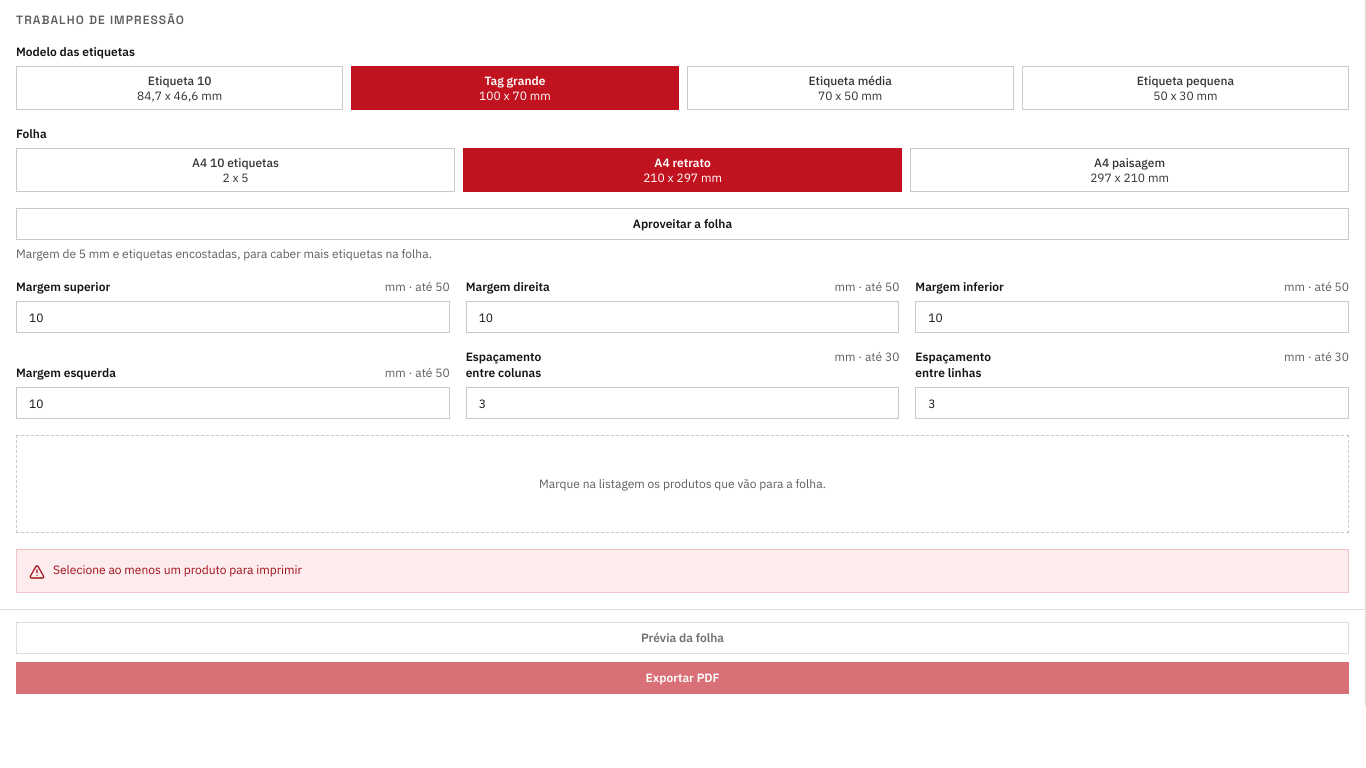
Test case: aproveitar a folha › mantem o caminho de volta mesmo num par de modelos em que o ajuste nao rende
Click the button "Aproveitar a folha". click: (682, 224)
box: [16,208,1349,240]
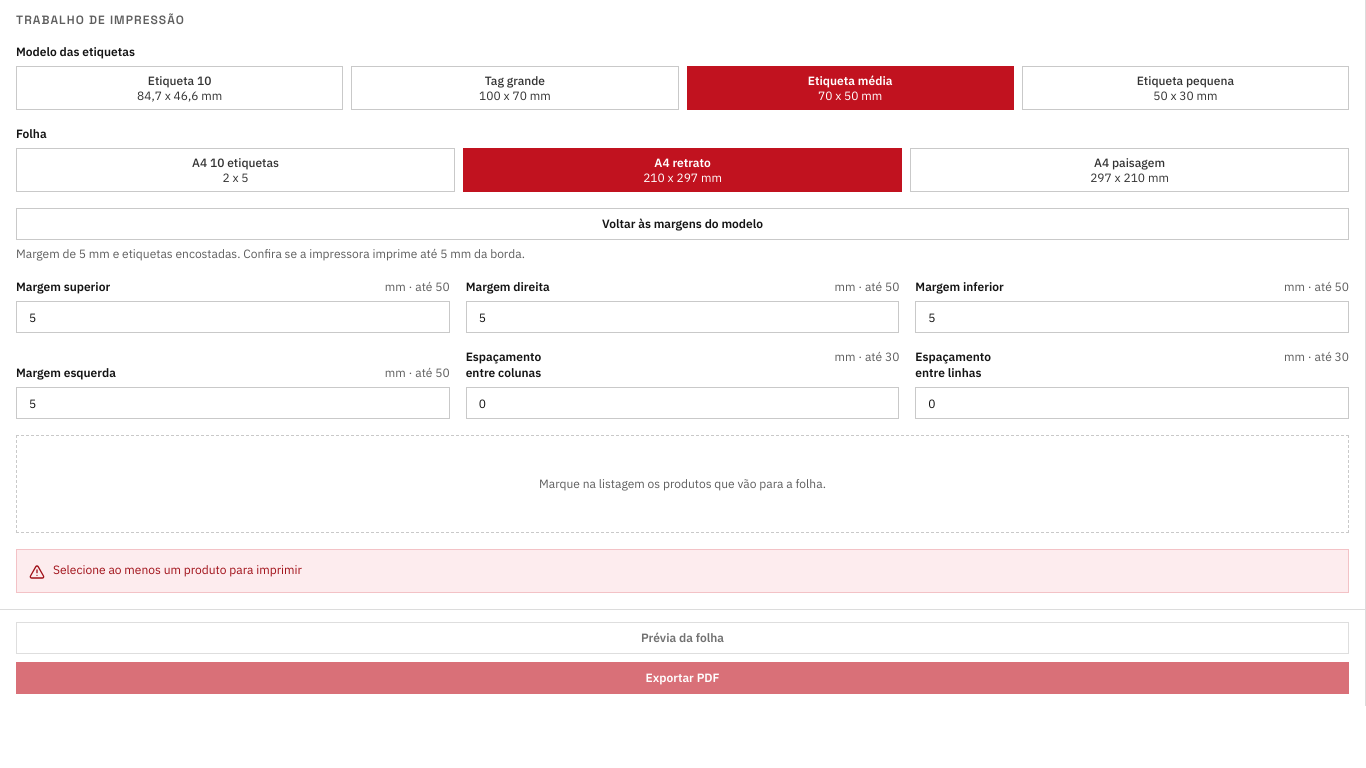
Now the button "Voltar às margens do modelo" is shown
Click the button "Voltar às margens do modelo". click: (682, 224)
box: [16,208,1349,240]
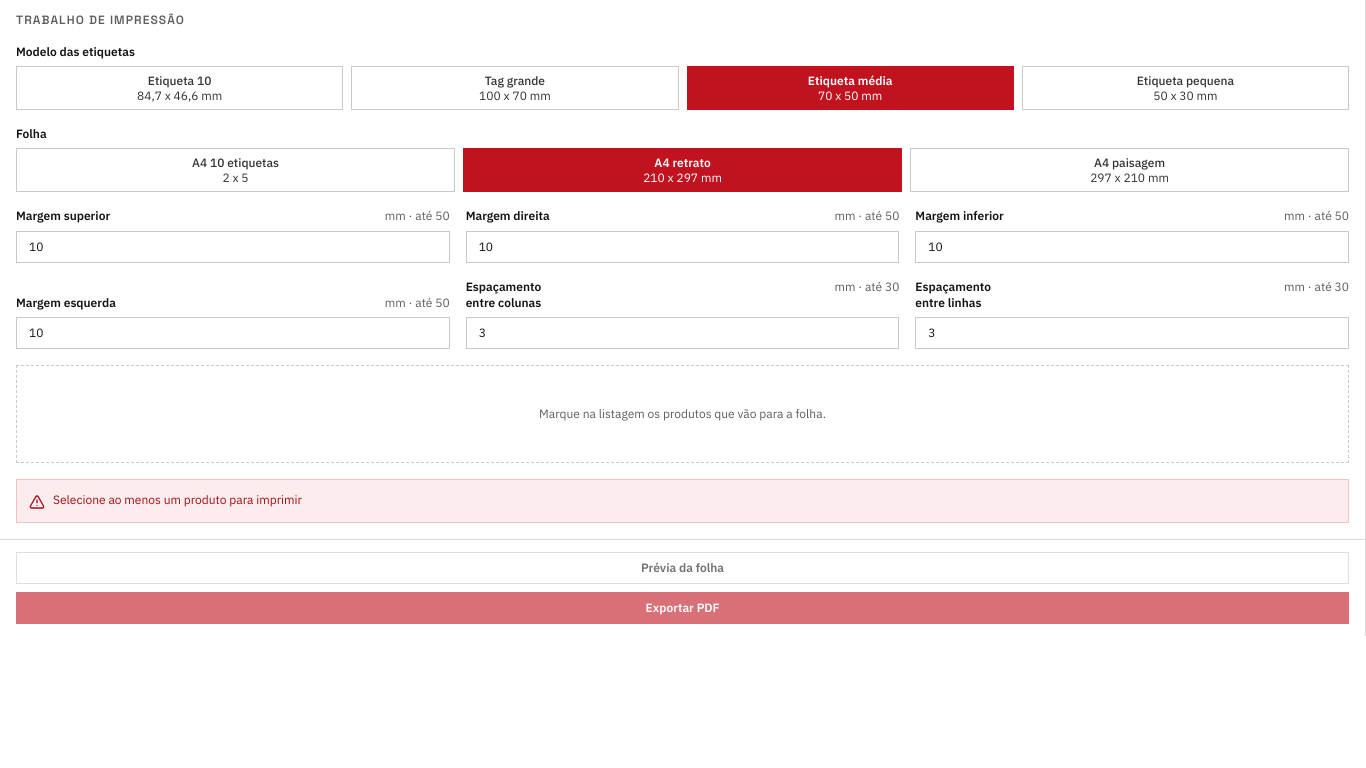
Now the field with id "folha-marginTopMm" holds "10", box [16,231,450,263]
